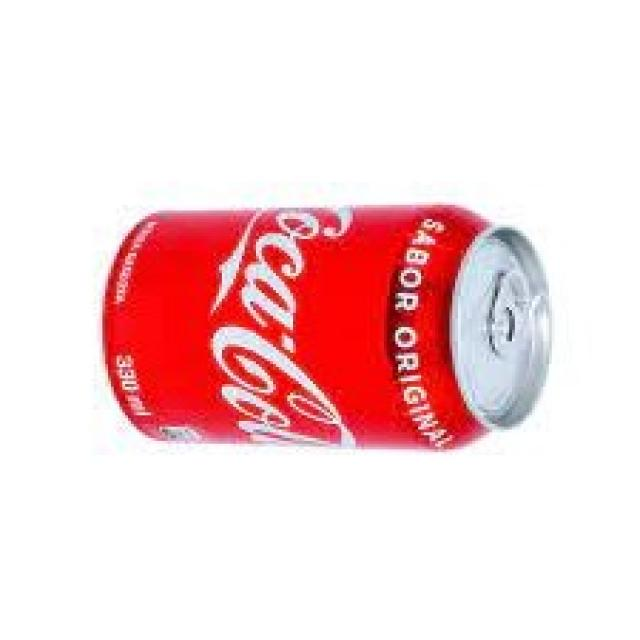Metal: (96, 204, 553, 452)
